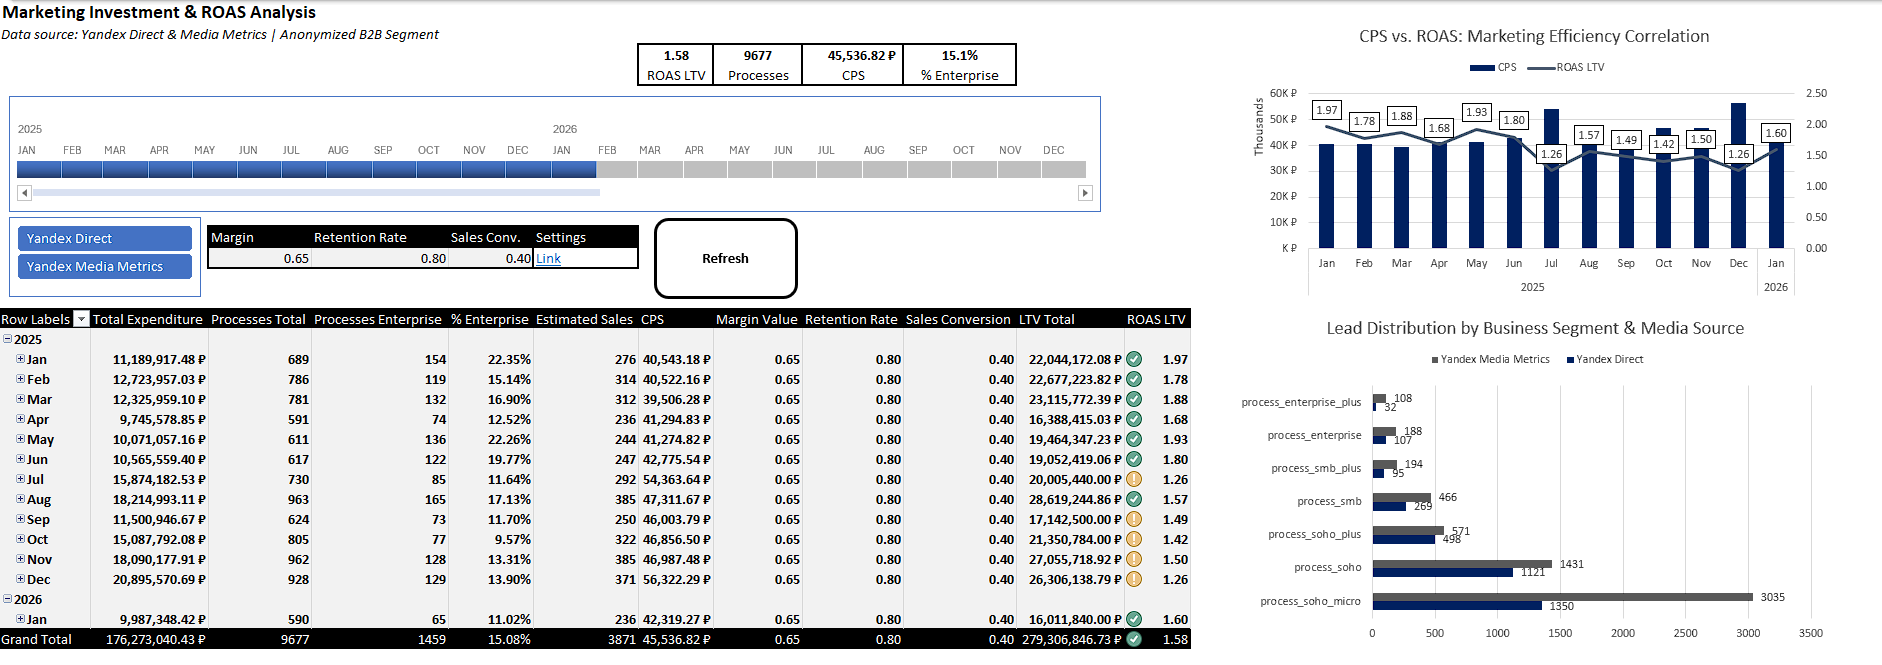

What the dashboard file says about the page in this screenshot:
{"tool":"powerbi","page":{"name":"dashboard","canvas":[1280,720],"ordinal":0},"visuals":[{"type":"pivotTable","fields":{"Rows":["General_Report.date.Variation.Date Hierarchy.Year","General_Report.date.Variation.Date Hierarchy.Month","General_Report.campaign_name"],"Values":["_Measures.Total Expenditure","_Measures.Processes Total","_Measures.Processes Enterprise","_Measures.% Enterprise","_Measures.Estimated Sales","_Measures.CPS","_Measures.LTV Total","_Measures.ROAS LTV"]},"box":[0,303.8,1280.4,416.2],"z":0},{"type":"advancedSlicerVisual","fields":{"Values":["General_Report.ad_source"]},"box":[0,217.6,405.4,86.1],"z":1000},{"type":"slicer","fields":{"Values":["Margin %.Margin %"]},"box":[406.2,216.7,195,86.1],"z":2000},{"type":"slicer","fields":{"Values":["Retention Rate.Retention Rate"]},"box":[600.3,217.6,195,86.1],"z":3000},{"type":"listSlicer","fields":{"Values":["General_Report.date.Variation.Date Hierarchy.Year"]},"box":[0,161.4,116.1,56.2],"z":4000},{"type":"advancedSlicerVisual","fields":{"Values":["General_Report.date.Variation.Date Hierarchy.Month"]},"box":[116.1,161.4,1164.3,56.2],"z":5000},{"type":"card","fields":{"Values":["_Measures.ROAS LTV"]},"box":[313.8,55.3,184.1,96.1],"z":6000},{"type":"card","fields":{"Values":["_Measures.Processes Total"]},"box":[566.8,55.3,184.1,96.1],"z":7000},{"type":"card","fields":{"Values":["_Measures.CPS"]},"box":[820.7,55.3,184.1,96.1],"z":8000},{"type":"card","fields":{"Values":["_Measures.% Enterprise"]},"box":[1072.7,55.3,184.1,96.1],"z":9000},{"type":"textbox","box":[0,0.9,537.7,48.1],"z":10000},{"type":"textbox","box":[0,49,302,45.3],"z":11000},{"type":"slicer","fields":{"Values":["Sales Conversion.Sales Conversion"]},"box":[795.3,216.7,195,86.1],"z":12000}]}

Visuals, with their boxes on the page's 1280x720 design canvas (x1, y1, x2, y2). These are canvas units, not pixel positions in the 1882x665 screenshot, which may show the page scaled, cropped or inside an application window:
pivotTable - General_Report.date.Variation.Date Hierarchy.Year x General_Report.date.Variation.Date Hierarchy.Month: crop(0, 304, 1280, 720)
advancedSlicerVisual - General_Report.ad_source: crop(0, 218, 405, 304)
slicer - Margin %.Margin %: crop(406, 217, 601, 303)
slicer - Retention Rate.Retention Rate: crop(600, 218, 795, 304)
listSlicer - General_Report.date.Variation.Date Hierarchy.Year: crop(0, 161, 116, 218)
advancedSlicerVisual - General_Report.date.Variation.Date Hierarchy.Month: crop(116, 161, 1280, 218)
card - _Measures.ROAS LTV: crop(314, 55, 498, 151)
card - _Measures.Processes Total: crop(567, 55, 751, 151)
card - _Measures.CPS: crop(821, 55, 1005, 151)
card - _Measures.% Enterprise: crop(1073, 55, 1257, 151)
textbox: crop(0, 1, 538, 49)
textbox: crop(0, 49, 302, 94)
slicer - Sales Conversion.Sales Conversion: crop(795, 217, 990, 303)
